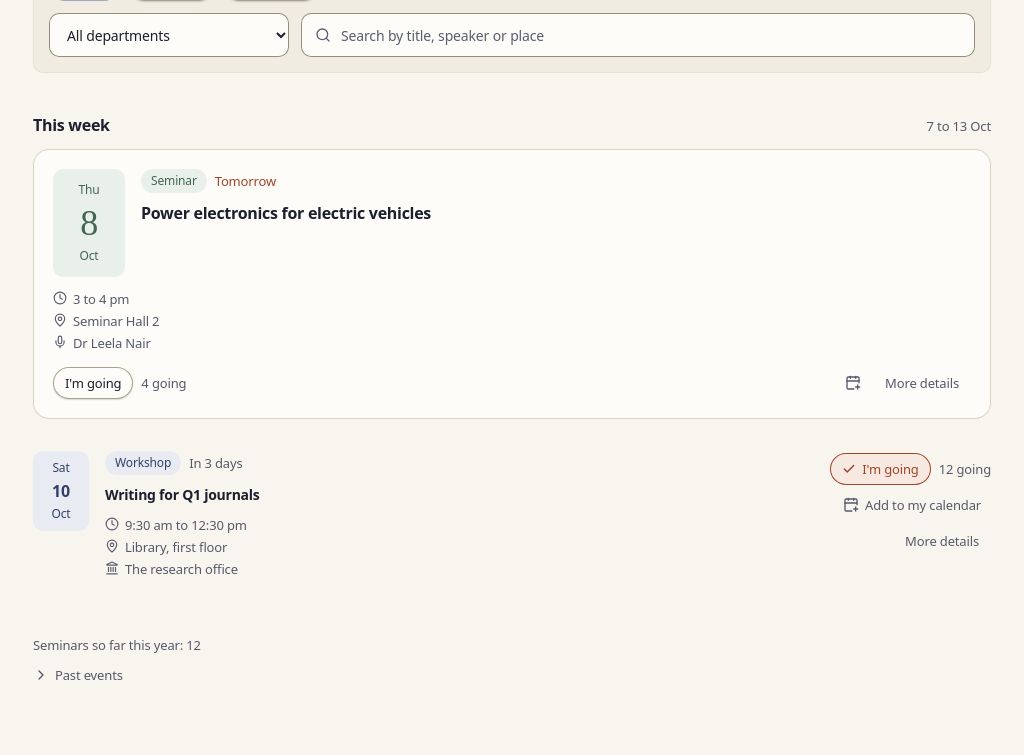
Test: Inviting people: the panel › lists the people with a face, their department and why they fit
(page scrolled)
Click the button "More details" below "Add to my calendar" at (942, 541), box [893,525,991,557]
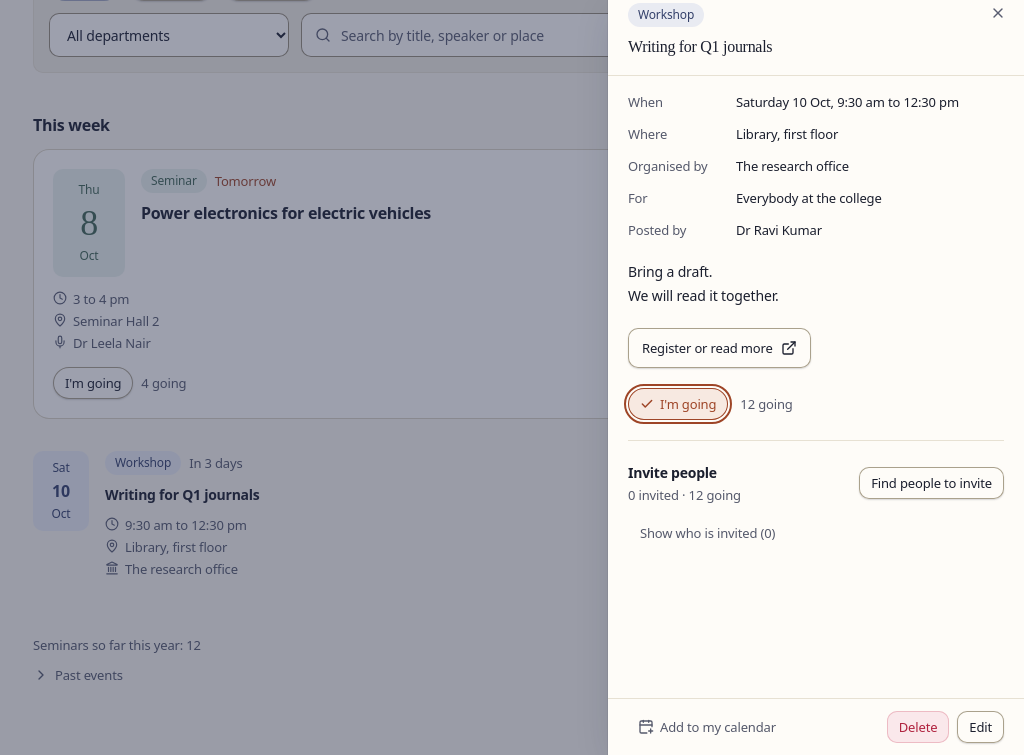
Click the button "Find people to invite" at (932, 483), box [859,467,1004,499]
(page scrolled)
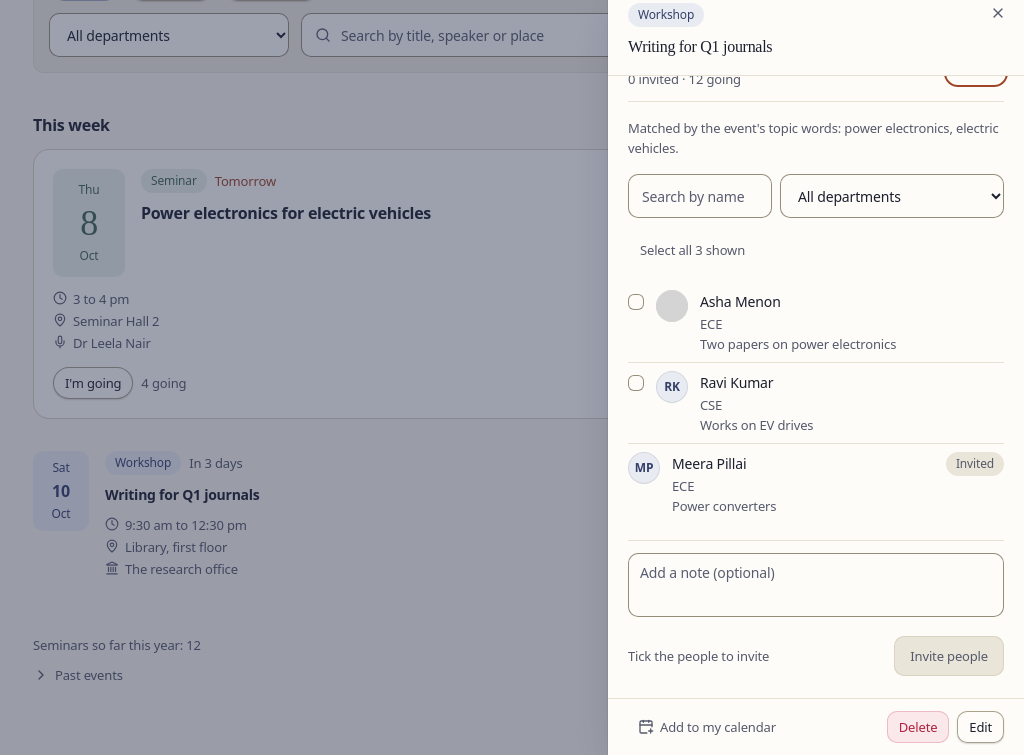
Expected: the checkbox named "Invite Asha Menon" is shown, [628,294,644,310]
Expected: the text "Two papers on power electronics" is shown, [700,335,896,353]
Expected: the text "Works on EV drives" is shown, [700,416,813,434]
